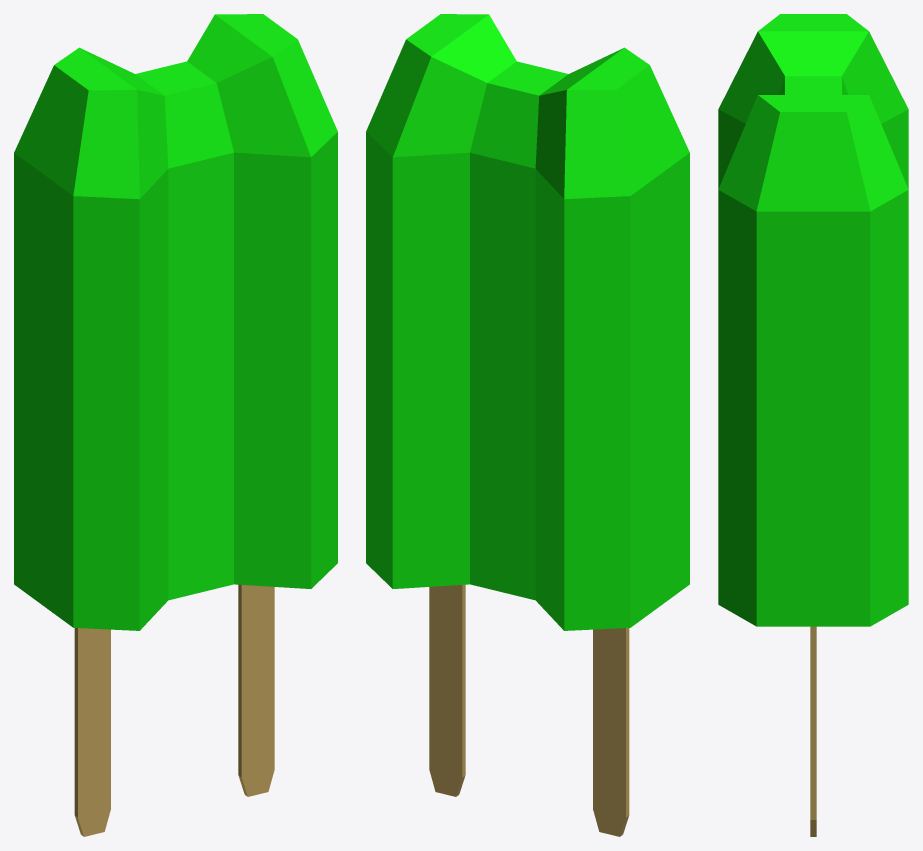
Rendered from Green Apple Popsicle.fbx.
3 renders of one model, left to right at view 1: azimuth 30°, elevation 25°; view 2: azimuth 150°, elevation 25°; view 3: azimuth 270°, elevation 25°, orthographic. The views are drawn at different scales.
Parts seen in each view (by area): view 1: Green Apple Popsicle; view 2: Green Apple Popsicle; view 3: Green Apple Popsicle.
Boxes of the visible parts, box(x1,y1,x2,y2) form: Green Apple Popsicle: box(14, 14, 337, 836); Green Apple Popsicle: box(366, 14, 689, 836); Green Apple Popsicle: box(718, 14, 908, 836).
Bounding box in the file's own units: 4.11 × 11.3 × 2.67.
